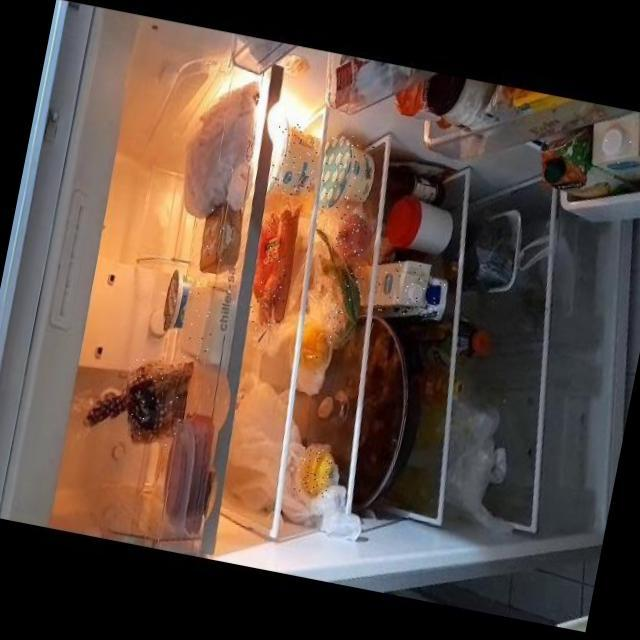Limón: (294, 442, 337, 498), (299, 320, 334, 373)
Mantequilla: (196, 201, 241, 278)
Queso: (178, 282, 222, 363)
Yogur: (318, 132, 378, 215), (266, 119, 323, 198), (158, 270, 193, 332)
Zanahoria: (248, 206, 302, 327)
bread: (120, 353, 194, 449)
green chilies: (320, 261, 367, 348)
milk: (374, 258, 448, 325), (586, 104, 640, 177)
tomato paste: (332, 210, 370, 261)
